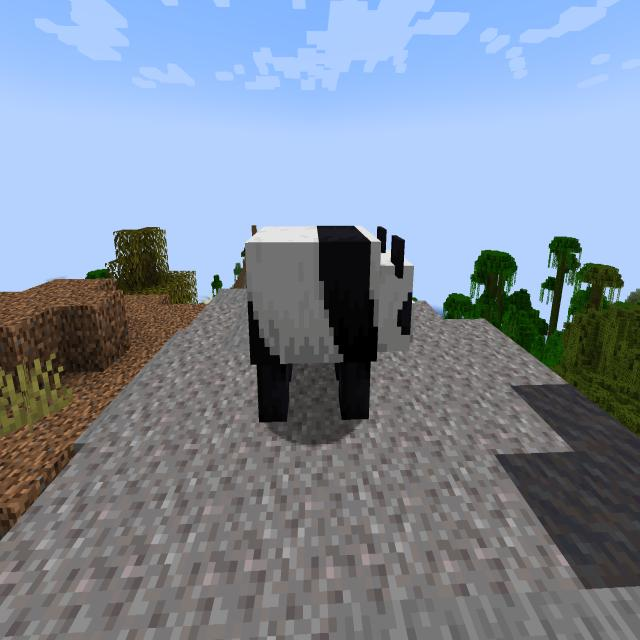Panda: (239, 206, 422, 448)
